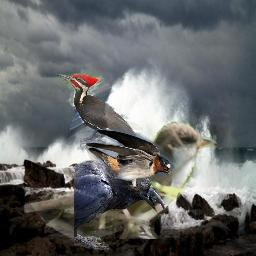Crow: (74, 160, 165, 250)
Cuckoo: (24, 121, 217, 239)
Swallow: (86, 129, 172, 193)
Woodpecker: (55, 73, 147, 186)
